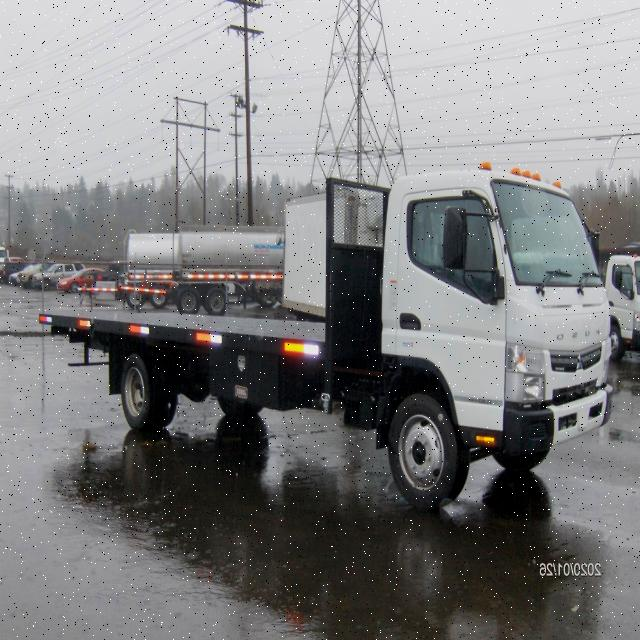truck: (39, 167, 612, 510)
